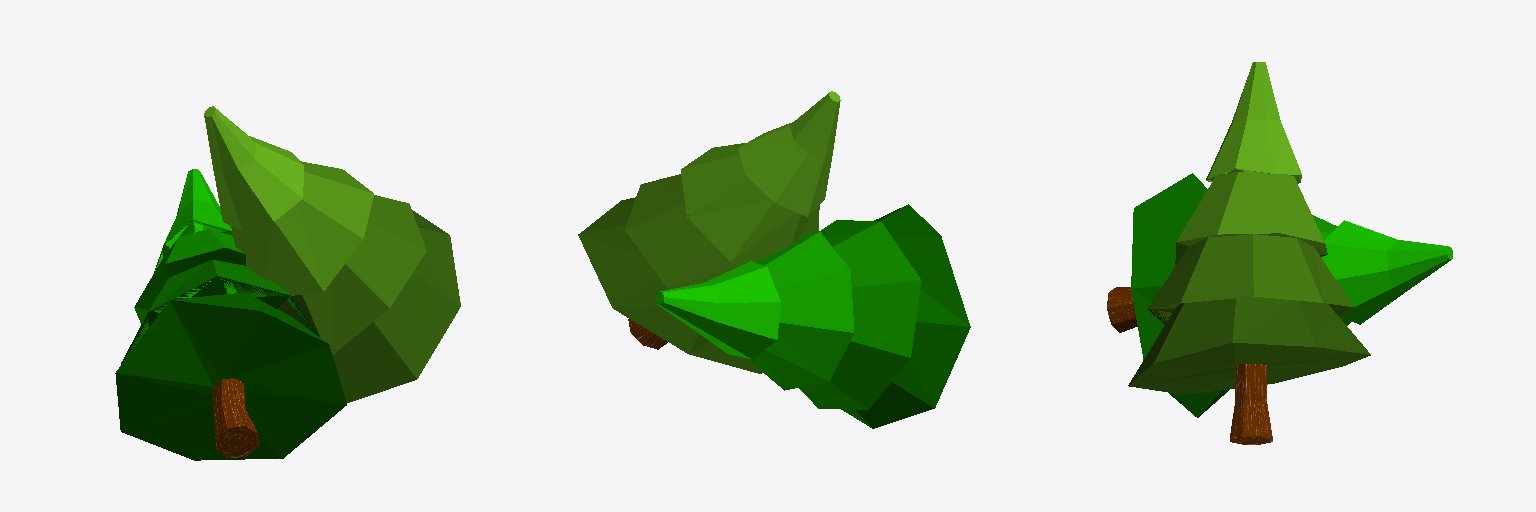
3 renders of one model, left to right at view 1: azimuth 30°, elevation 25°; view 2: azimuth 150°, elevation 25°; view 3: azimuth 270°, elevation 25°, orthographic.
Visible parts, largest first — view 1: barricada.001; view 2: barricada.001; view 3: barricada.001.
Boxes of the visible parts, x1,y1,x2,y2 form: barricada.001: [115, 106, 460, 460]; barricada.001: [578, 91, 970, 428]; barricada.001: [1107, 62, 1452, 444].
Size of the model in its own units: 17.93 by 16.87 by 15.68.
2 materials, 2 textured.